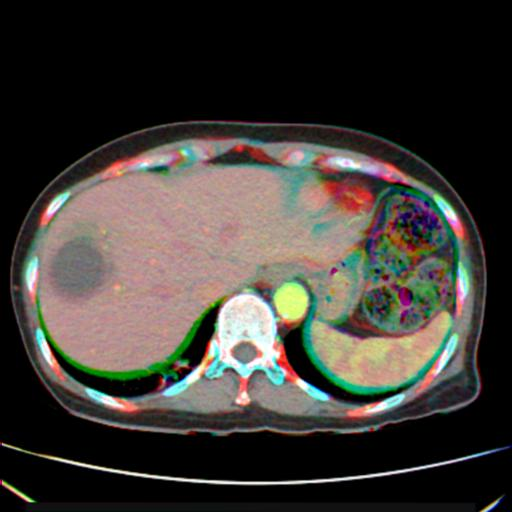Abscess: (51, 237, 104, 299)
